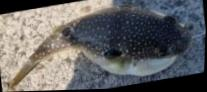fish: (14, 6, 191, 83)
